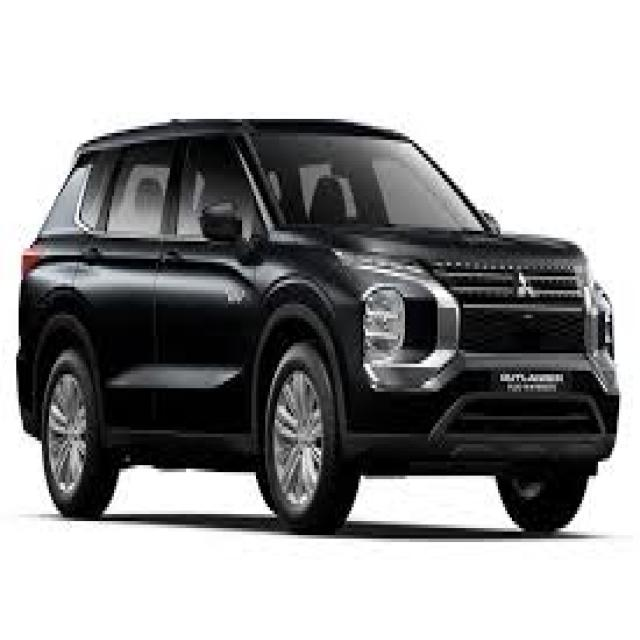light_vehicle: (16, 117, 622, 537)
